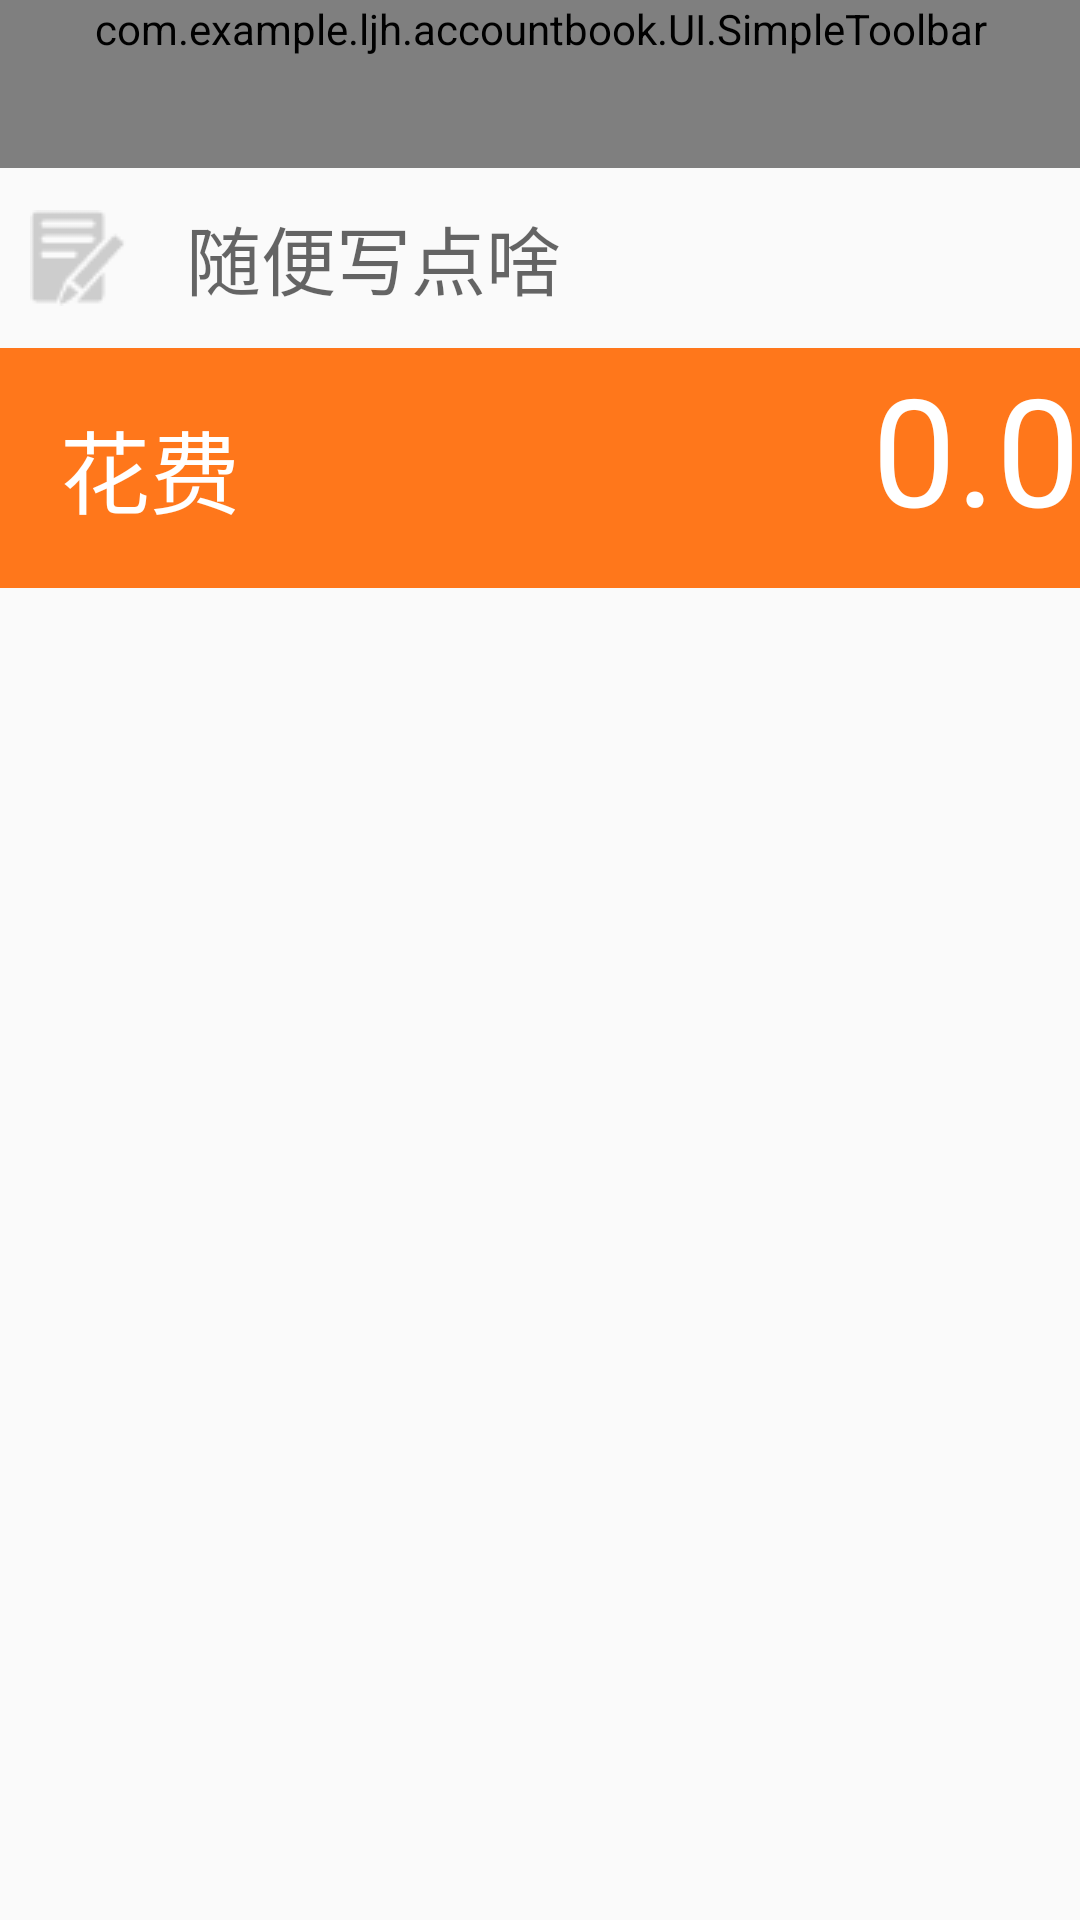

Screen size 1080w x 1920h. Icon name, then its center in pixels as point (x, y):
remake: point (78, 258)
